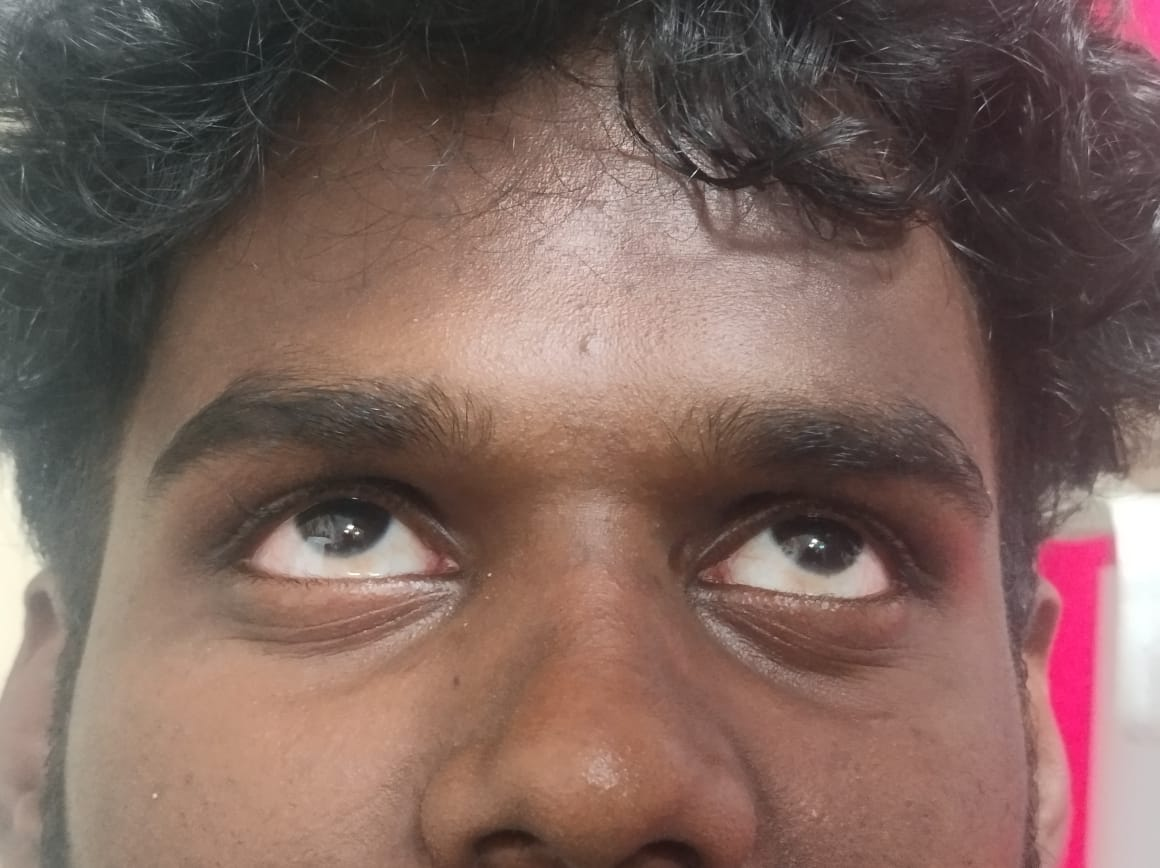EYE UP: (127, 333, 546, 692), (642, 336, 1011, 701)
